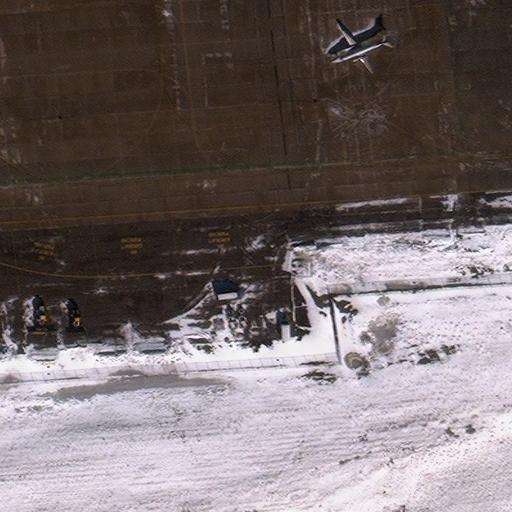Medium Civil Transport: (331, 25, 389, 77)
